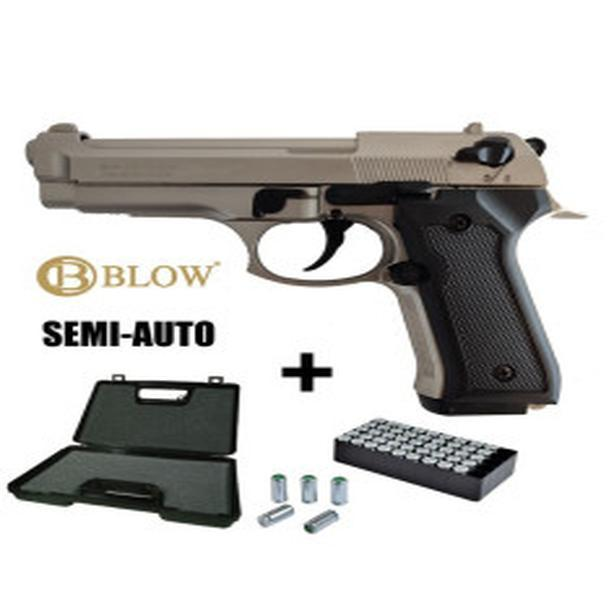Firearm: (20, 90, 568, 428)
